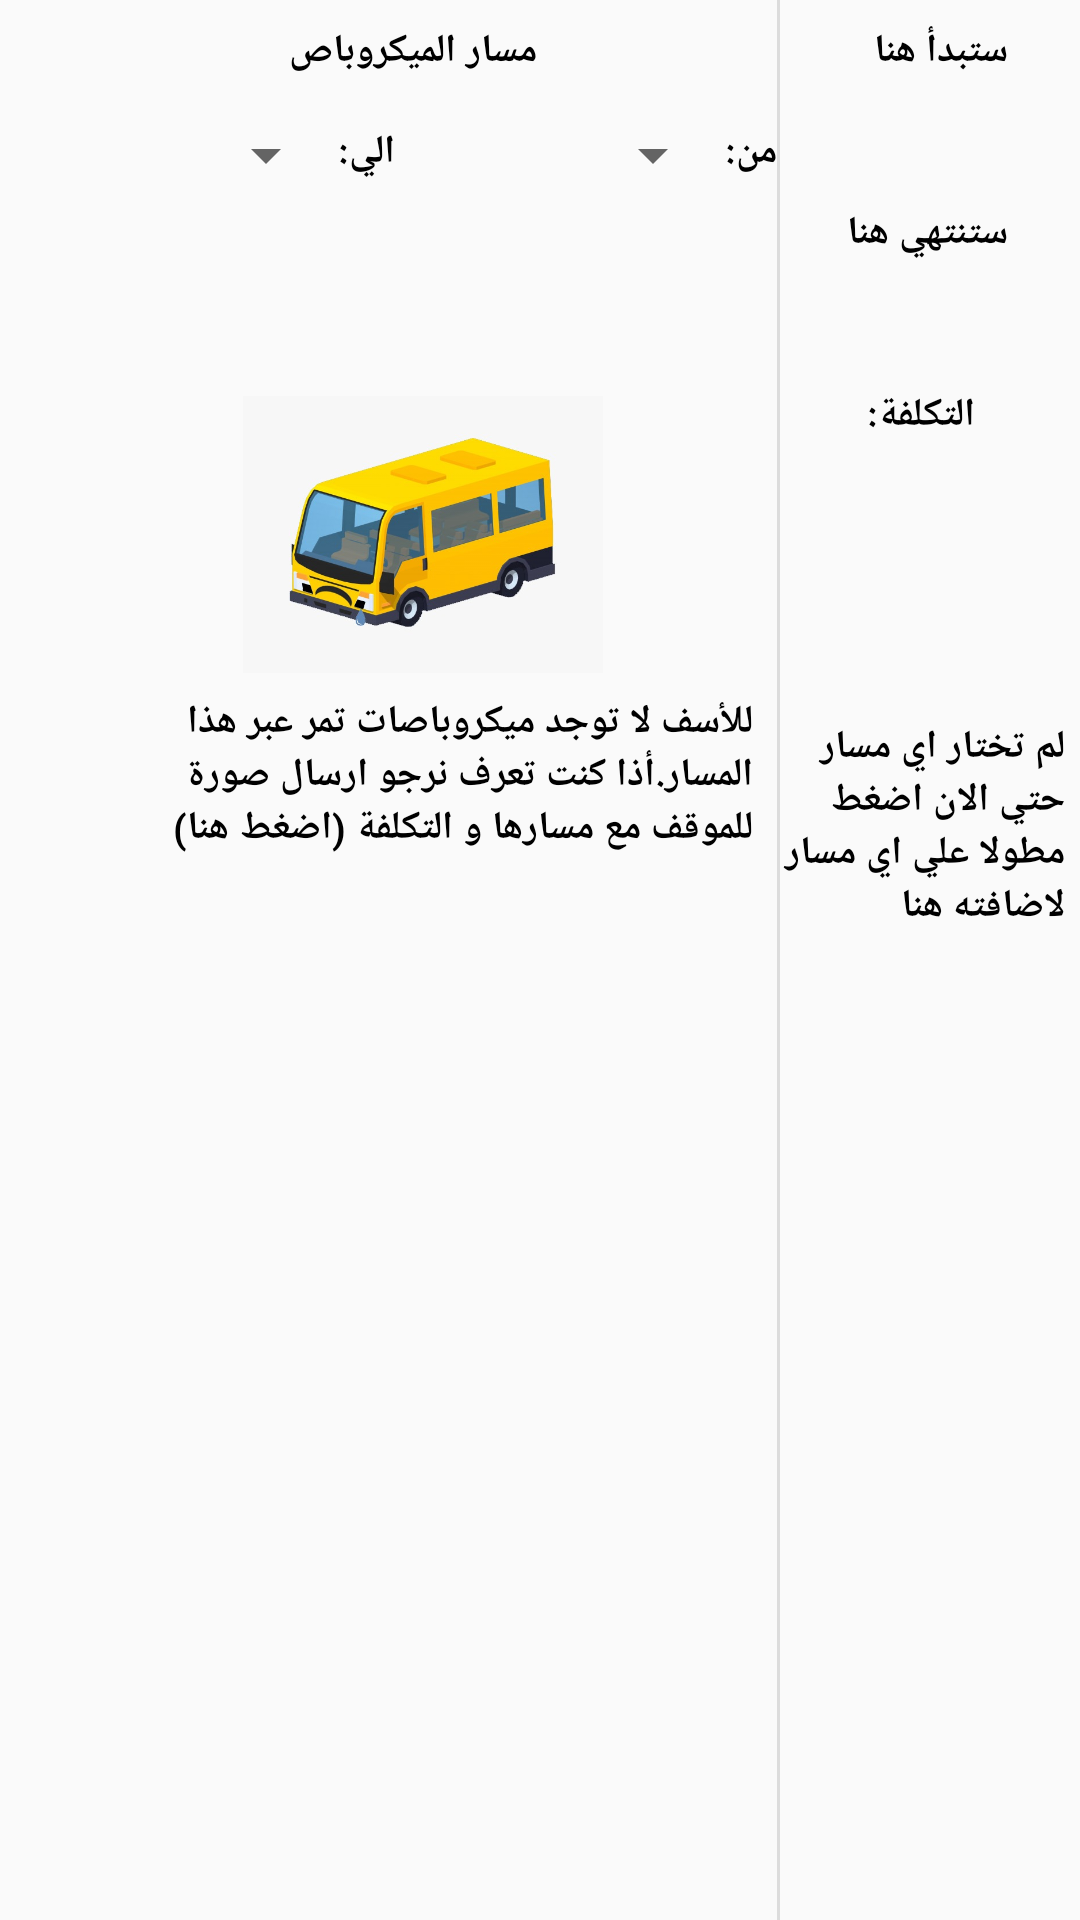

Icon bounding boxes for this 1080*1920 phone screenshot, format detection(x1, y1, x2, y2):
sad bus: detection(289, 438, 555, 627)
